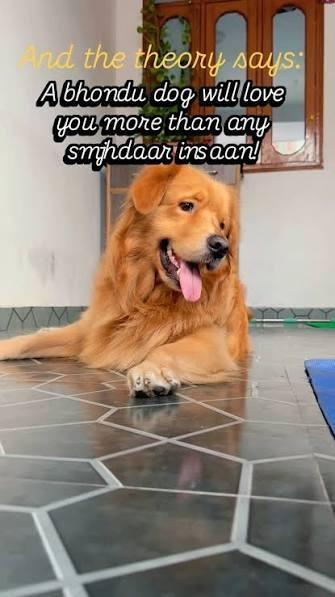adult_dog: (0, 160, 253, 399)
